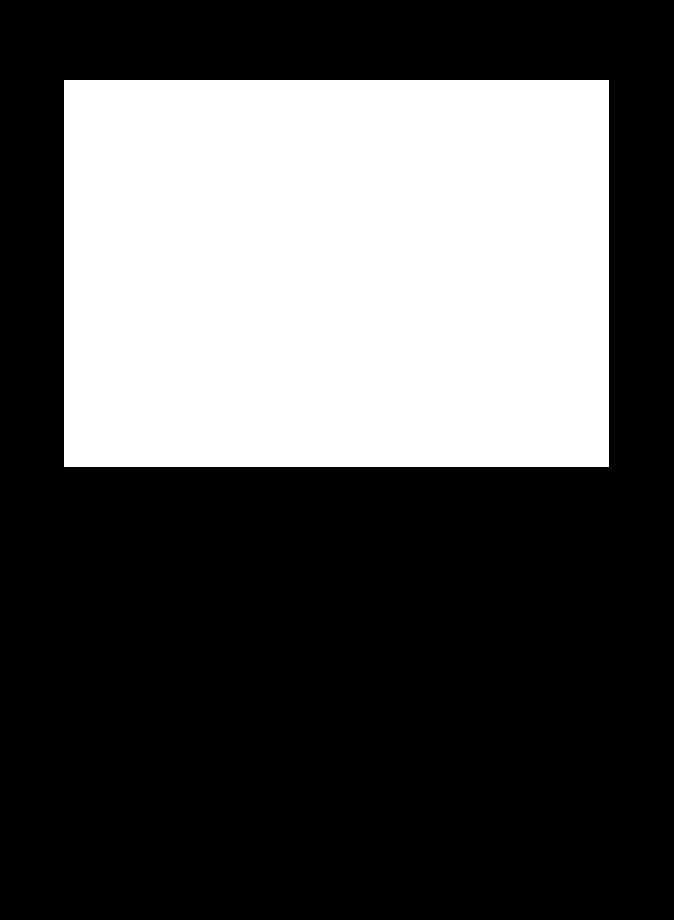table: (64, 80, 608, 466)
